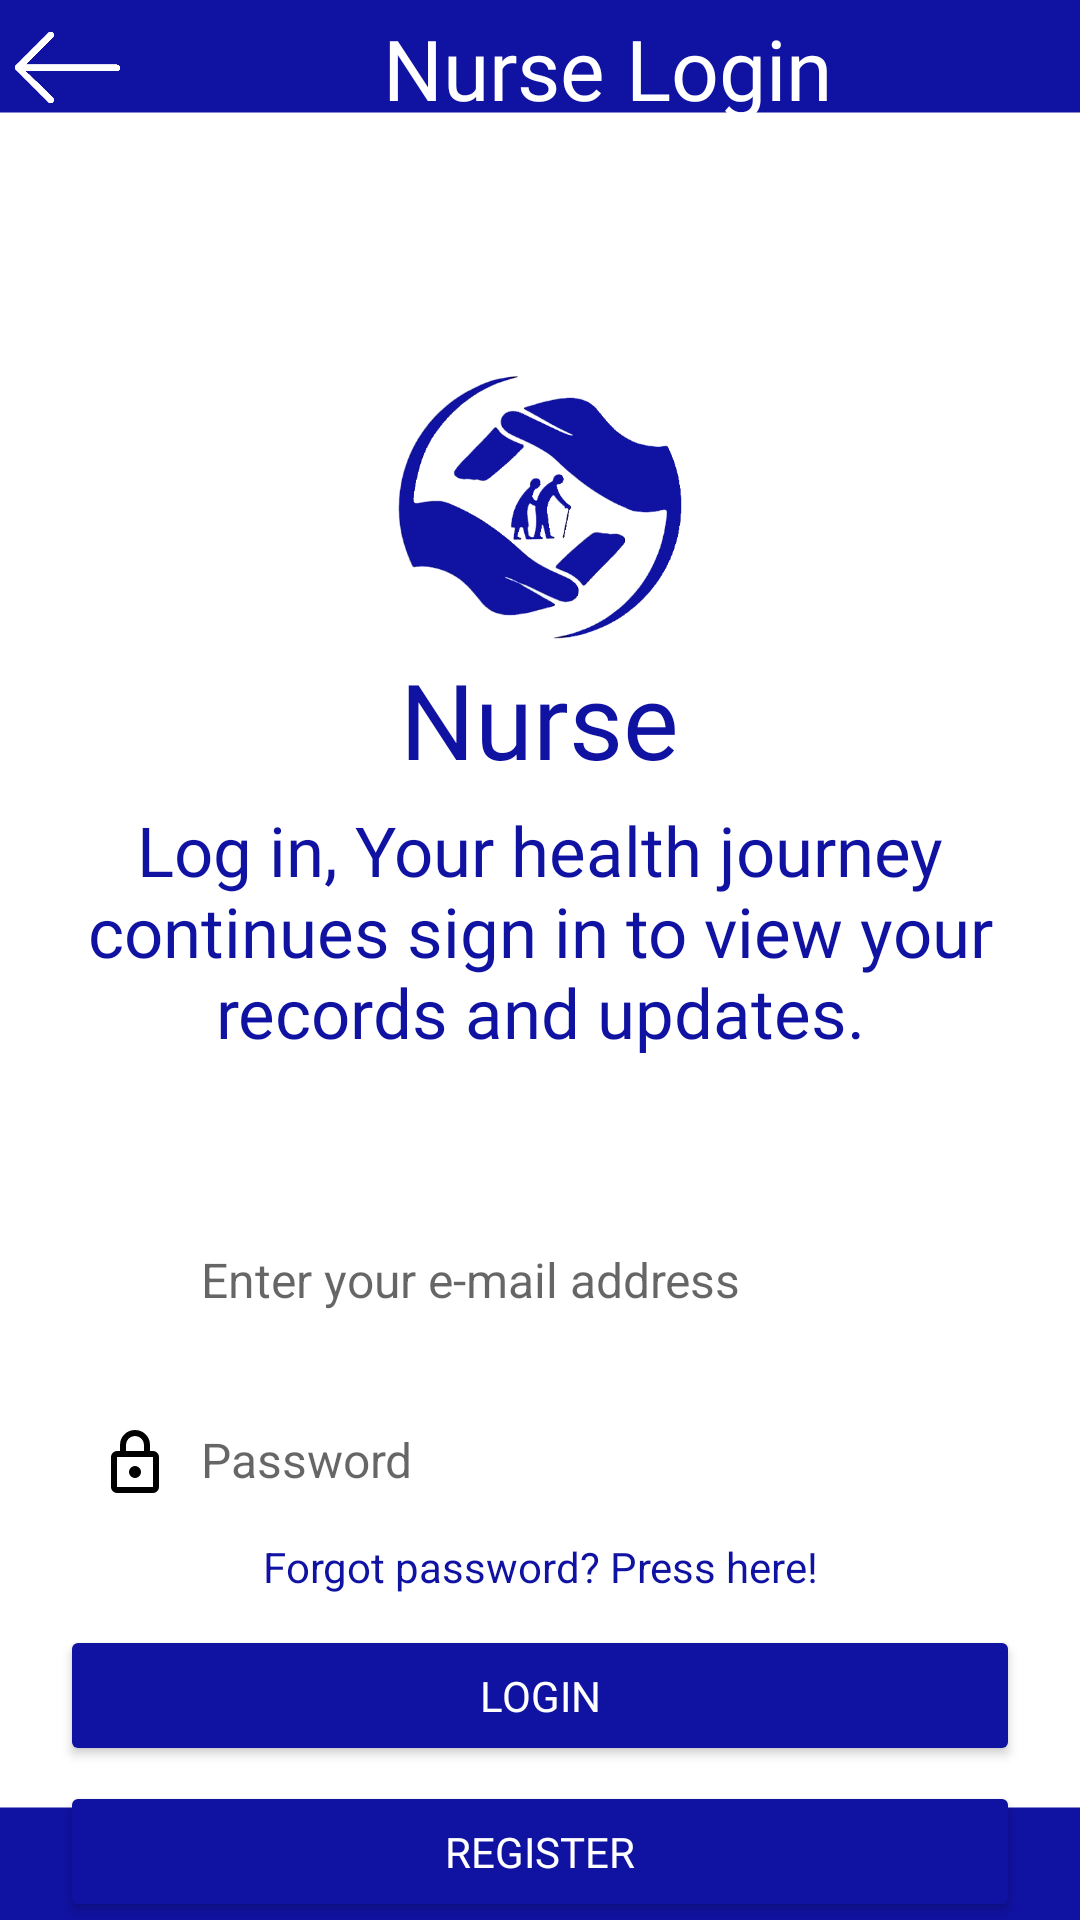

Where icons sit on this 1080 x 1920 app screen, as (x1, y1, x2, y2):
back: (15, 32, 120, 103)
lock: (111, 1430, 159, 1493)
